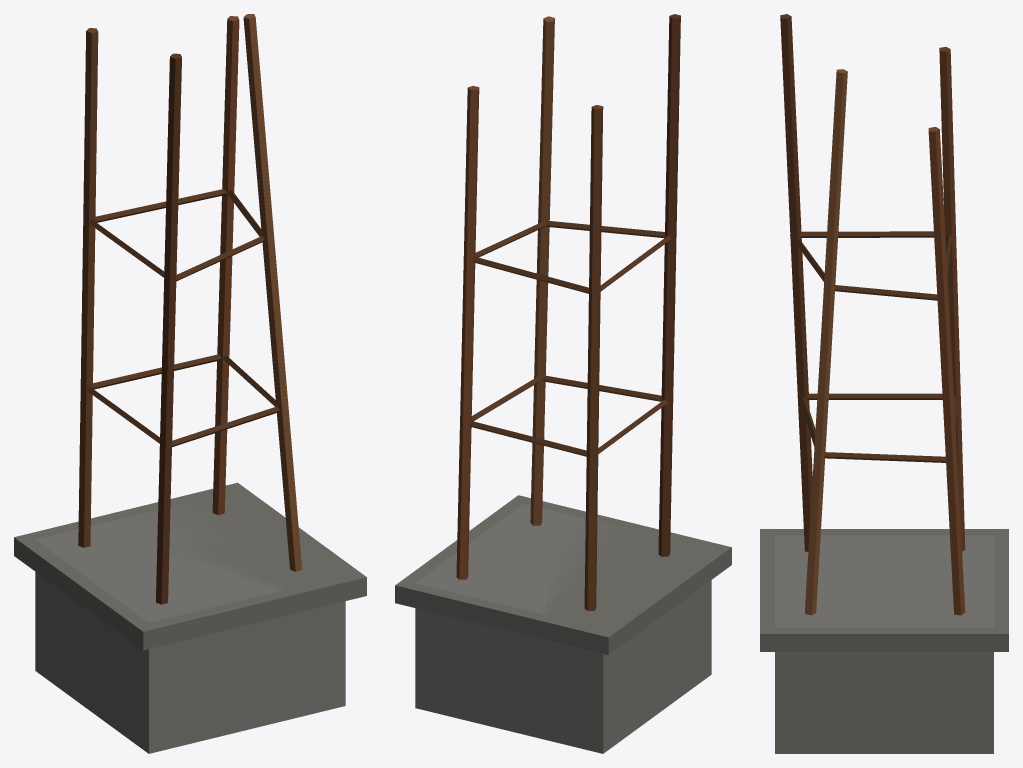
The model's file is rebar.glb.
The picture shows the model from 3 angles, left to right: view 1: azimuth 30°, elevation 25°; view 2: azimuth 150°, elevation 25°; view 3: azimuth 270°, elevation 25°; orthographic projection. The views are drawn at different scales.
Parts seen in each view (by area): view 1: rebar; view 2: rebar; view 3: rebar.
Boxes of the visible parts, bbox=[...] form: rebar: bbox=[14, 14, 366, 753]; rebar: bbox=[395, 14, 731, 753]; rebar: bbox=[760, 14, 1008, 753].
Bounding box in the file's own units: 0.5 × 1.47 × 0.5.
